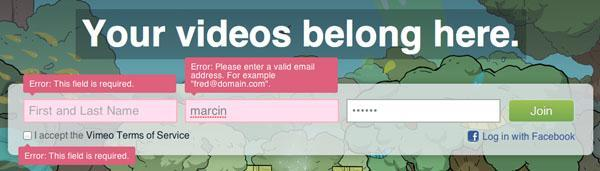button: (510, 100, 576, 124)
checkbox: (24, 131, 33, 142)
icon: (467, 131, 482, 145)
input: (184, 97, 343, 126), (21, 97, 180, 125), (347, 99, 503, 125)
label: (34, 129, 193, 143), (482, 131, 576, 144)
